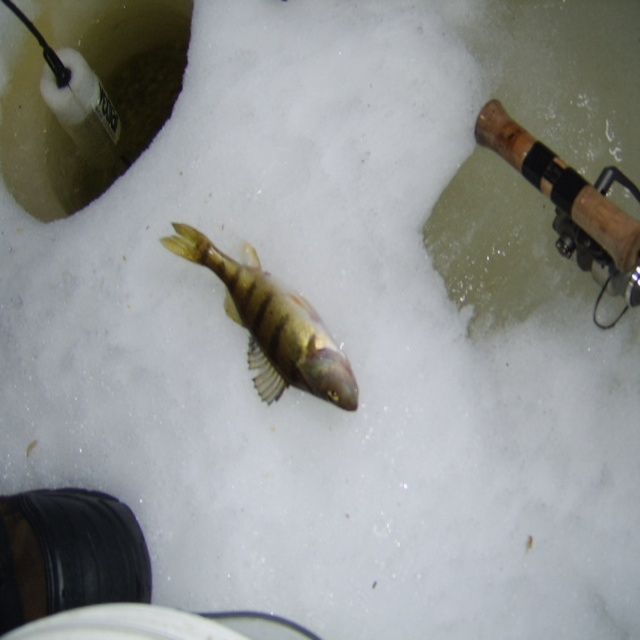Fish: (156, 223, 357, 416)
